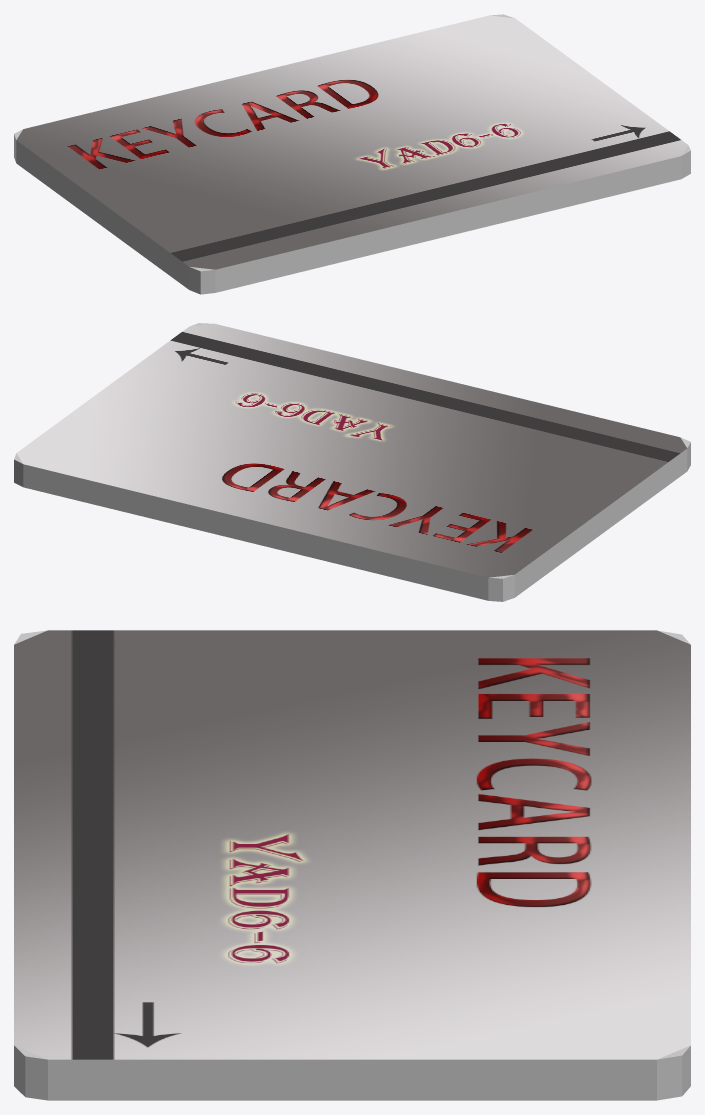
The model's file is KeyCard.FBX.
3 renders of one model, top to bottom at view 1: azimuth 30°, elevation 25°; view 2: azimuth 150°, elevation 25°; view 3: azimuth 270°, elevation 25°, orthographic. The views are drawn at different scales.
Visible parts, largest first — view 1: Box001; view 2: Box001; view 3: Box001.
Boxes of the visible parts, x1=… form: Box001: x1=14, y1=14, x2=690, y2=294; Box001: x1=14, y1=323, x2=690, y2=601; Box001: x1=14, y1=630, x2=690, y2=1100.
Bounding box in the file's own units: 45 × 2 × 30.
Materials: 1 (1 with a texture image).
